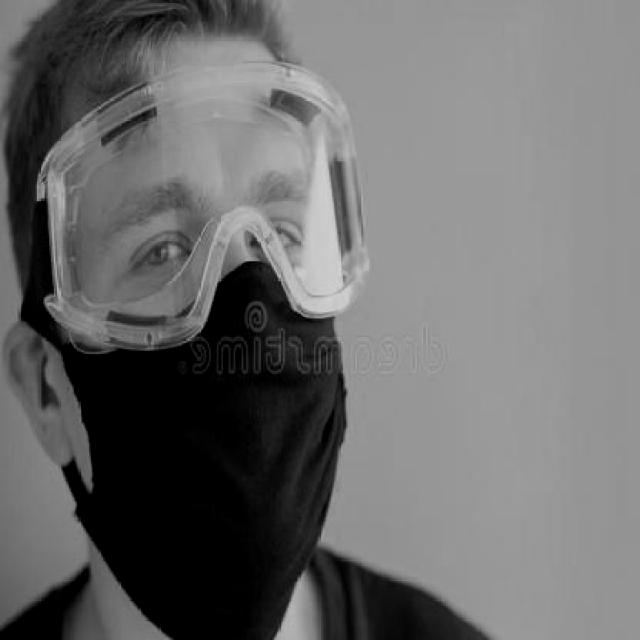face_mask: (78, 155, 364, 591)
glasses: (38, 59, 368, 361)
head_nohelmet: (5, 0, 302, 117)
